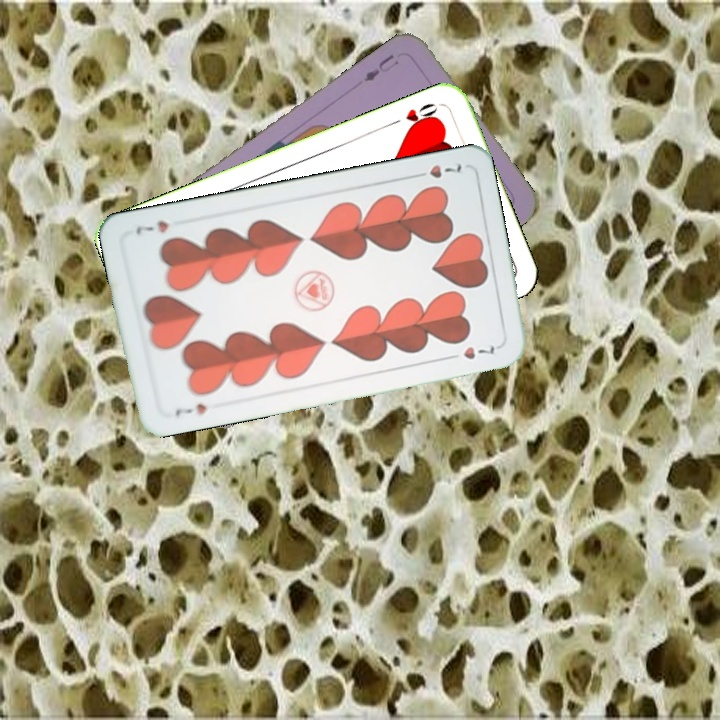EU: (360, 50, 402, 85)
H7: (408, 159, 464, 181), (171, 399, 209, 418)
HO: (386, 99, 440, 133)
